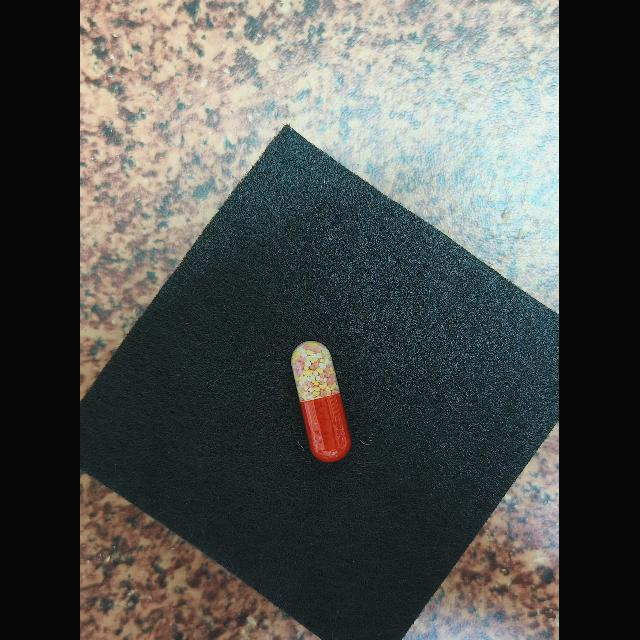Intact Capsule: (292, 341, 352, 462)
